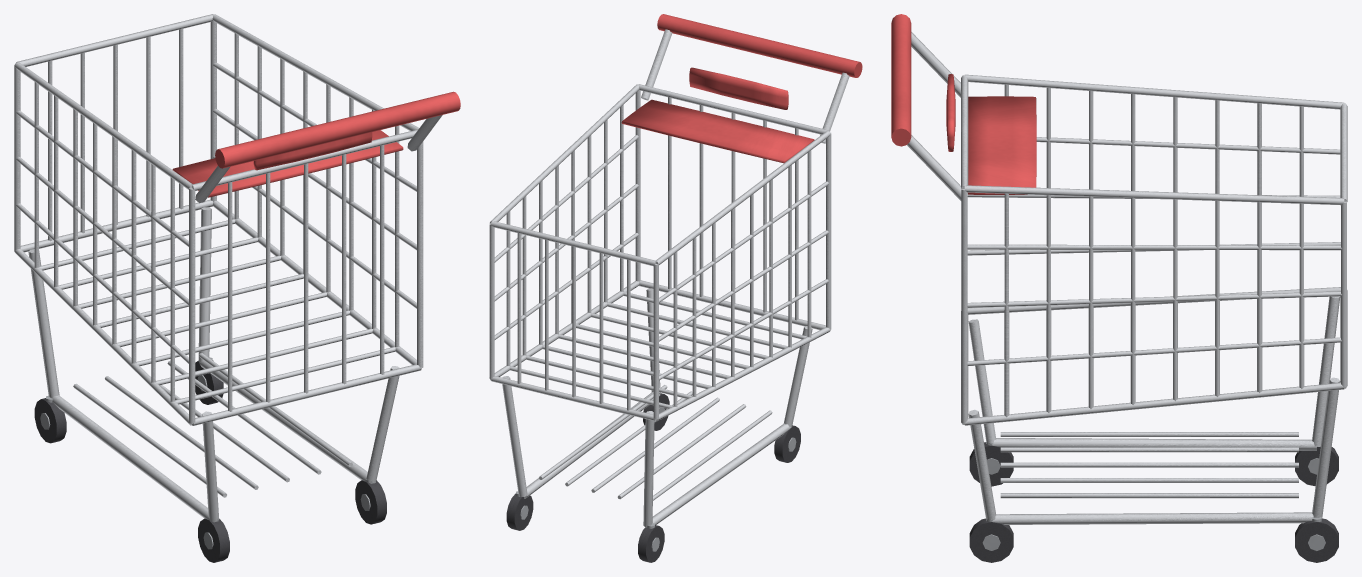
File: cart.glb
3 renders of one model, left to right at view 1: azimuth 30°, elevation 25°; view 2: azimuth 150°, elevation 25°; view 3: azimuth 270°, elevation 25°, orthographic. The views are drawn at different scales.
Parts seen in each view (by area): view 1: cart_body; view 2: cart_body; view 3: cart_body.
Boxes of the visible parts, x1,y1,x2,y2 form: cart_body: [14, 14, 460, 562]; cart_body: [489, 14, 862, 562]; cart_body: [891, 14, 1347, 562].
Size of the model in its own units: 0.6 by 1.1 by 1.01.
Materials: 4 (4 with a texture image).
